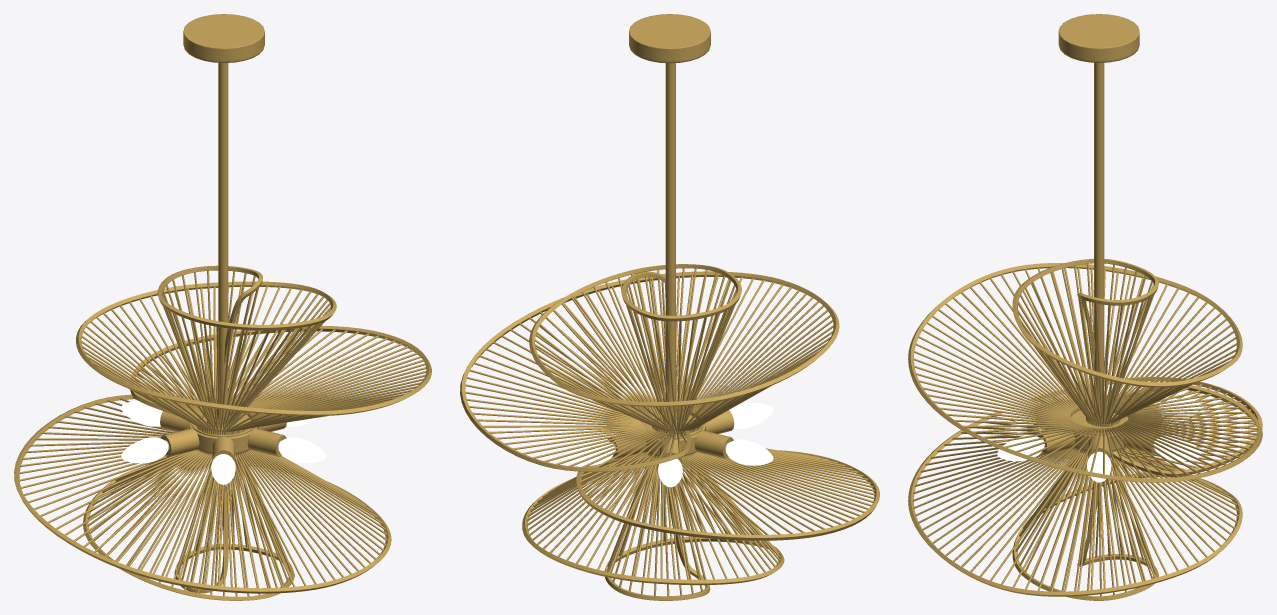
File: chandelier_2.glb
3 renders of one model, left to right at view 1: azimuth 30°, elevation 25°; view 2: azimuth 150°, elevation 25°; view 3: azimuth 270°, elevation 25°, orthographic.
Parts seen in each view (by area): view 1: Line067, Line069, Line068, Line066, Cylinder172, Rectangle239, Rectangle240, Bulb_E14_Svecha_led_092_Glass_Clear_Fog_green_0, Bulb_E14_Svecha_led_088_Glass_Clear_Fog_green_0, Cylinder168, Cylinder170, Bulb_E14_Svecha_led_086_Glass_Clear_Fog_green_0 (+1 smaller); view 2: Line069, Line067, Line068, Line066, Cylinder172, Rectangle239, Bulb_E14_Svecha_led_088_Glass_Clear_Fog_green_0, Bulb_E14_Svecha_led_090_Glass_Clear_Fog_green_0, Cylinder168, Bulb_E14_Svecha_led_084_Glass_Clear_Fog_green_0, Rectangle240, Bulb_E14_Svecha_led_086_Glass_Clear_Fog_green_0; view 3: Line069, Line067, Line068, Line066, Cylinder172, Rectangle239, Rectangle240, Bulb_E14_Svecha_led_092_Glass_Clear_Fog_green_0, Bulb_E14_Svecha_led_084_Glass_Clear_Fog_green_0.
Boxes of the visible parts, x1=… form: Line067: x1=18, y1=397, x2=387, y2=596; Line069: x1=81, y1=271, x2=426, y2=434; Line068: x1=76, y1=265, x2=431, y2=420; Line066: x1=14, y1=394, x2=391, y2=600; Cylinder172: x1=218, y1=63, x2=228, y2=423; Rectangle239: x1=183, y1=14, x2=264, y2=62; Rectangle240: x1=188, y1=413, x2=258, y2=453; Bulb_E14_Svecha_led_092_Glass_Clear_Fog_green_0: x1=278, y1=437, x2=325, y2=463; Bulb_E14_Svecha_led_088_Glass_Clear_Fog_green_0: x1=121, y1=437, x2=168, y2=463; Cylinder168: x1=161, y1=428, x2=199, y2=456; Cylinder170: x1=247, y1=428, x2=286, y2=456; Bulb_E14_Svecha_led_086_Glass_Clear_Fog_green_0: x1=121, y1=400, x2=162, y2=426; Line069: x1=465, y1=268, x2=833, y2=467; Line067: x1=526, y1=448, x2=875, y2=596; Line068: x1=460, y1=264, x2=839, y2=471; Line066: x1=522, y1=450, x2=879, y2=600; Cylinder172: x1=665, y1=63, x2=675, y2=425; Rectangle239: x1=629, y1=14, x2=710, y2=63; Bulb_E14_Svecha_led_088_Glass_Clear_Fog_green_0: x1=725, y1=439, x2=773, y2=465; Bulb_E14_Svecha_led_090_Glass_Clear_Fog_green_0: x1=729, y1=402, x2=773, y2=428; Cylinder168: x1=694, y1=430, x2=733, y2=458; Bulb_E14_Svecha_led_084_Glass_Clear_Fog_green_0: x1=567, y1=439, x2=615, y2=465; Rectangle240: x1=641, y1=415, x2=705, y2=456; Bulb_E14_Svecha_led_086_Glass_Clear_Fog_green_0: x1=658, y1=458, x2=682, y2=487; Line069: x1=914, y1=264, x2=1257, y2=478; Line067: x1=912, y1=379, x2=1257, y2=596; Line068: x1=908, y1=258, x2=1262, y2=482; Line066: x1=908, y1=377, x2=1262, y2=600; Cylinder172: x1=1094, y1=62, x2=1104, y2=421; Rectangle239: x1=1058, y1=14, x2=1139, y2=62; Rectangle240: x1=1071, y1=410, x2=1128, y2=451; Bulb_E14_Svecha_led_092_Glass_Clear_Fog_green_0: x1=997, y1=435, x2=1044, y2=461; Bulb_E14_Svecha_led_084_Glass_Clear_Fog_green_0: x1=1154, y1=435, x2=1201, y2=461.
Bounding box in the file's own units: 31.49 × 44.67 × 26.22.
